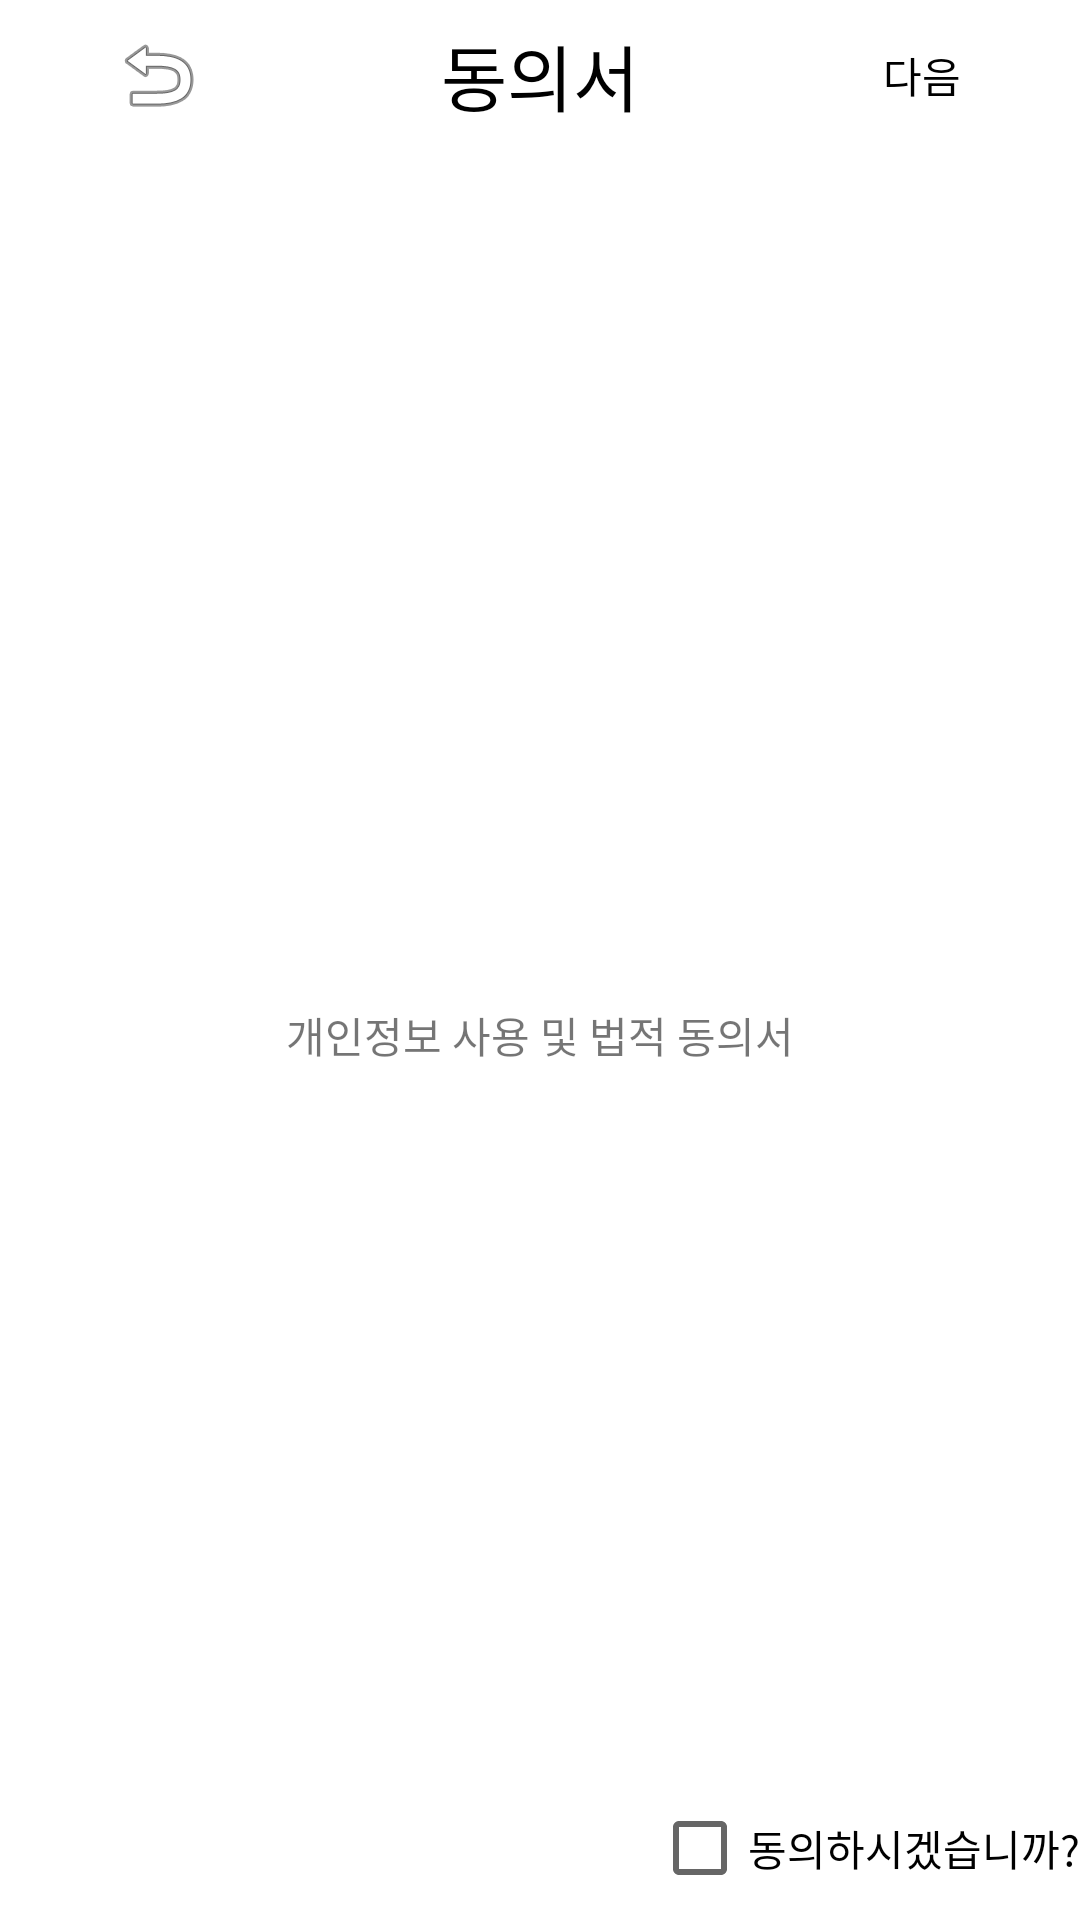

Named icons in this screenshot (1080px×1920px) and their bounding boxes, (x1, y1, x2, y2):
revert: (125, 44, 194, 107)
